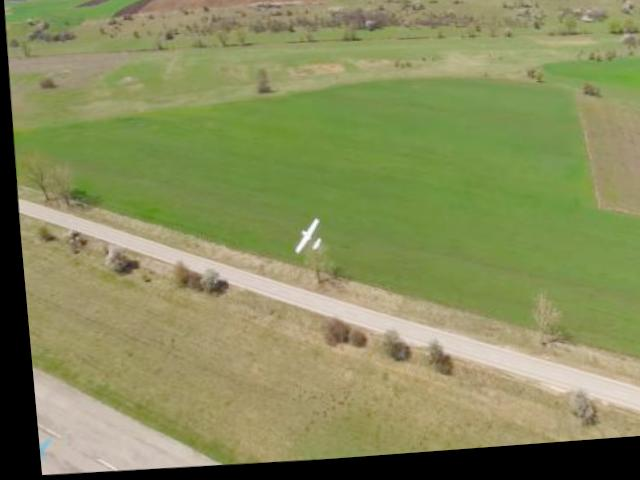uav: (281, 215, 326, 261)
